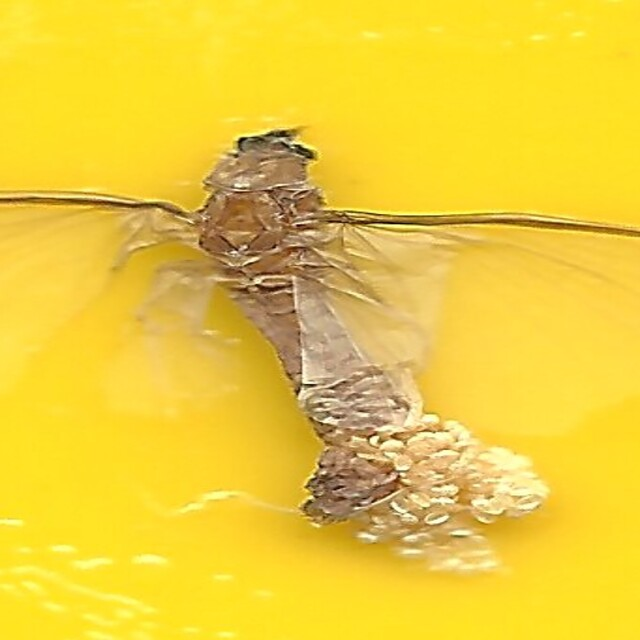Ephemeroptera: (188, 127, 452, 513)
